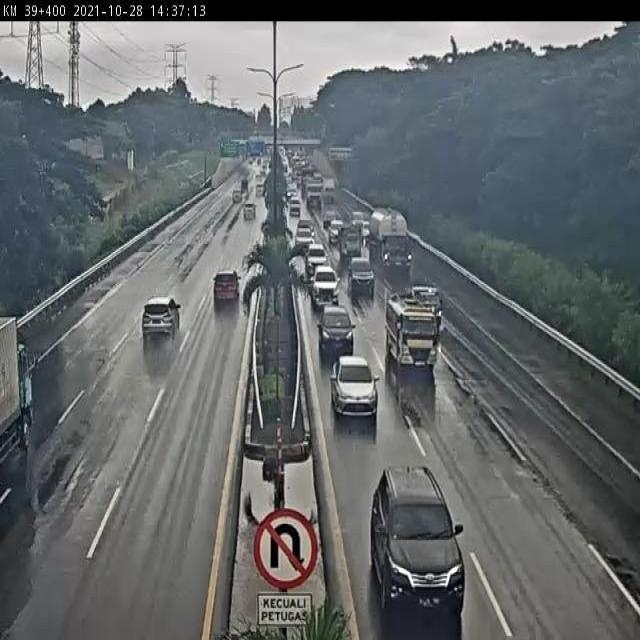big truck: (0, 303, 39, 524), (368, 207, 411, 272)
car: (369, 460, 461, 615), (331, 353, 377, 419), (410, 280, 449, 331), (318, 304, 355, 357), (140, 295, 181, 340), (347, 256, 376, 296), (311, 266, 339, 306), (213, 268, 240, 303), (306, 242, 326, 274), (294, 227, 315, 253), (329, 221, 343, 247), (243, 202, 257, 222), (289, 196, 301, 216), (231, 189, 242, 204)
small truck: (383, 292, 439, 371), (337, 224, 364, 260)
